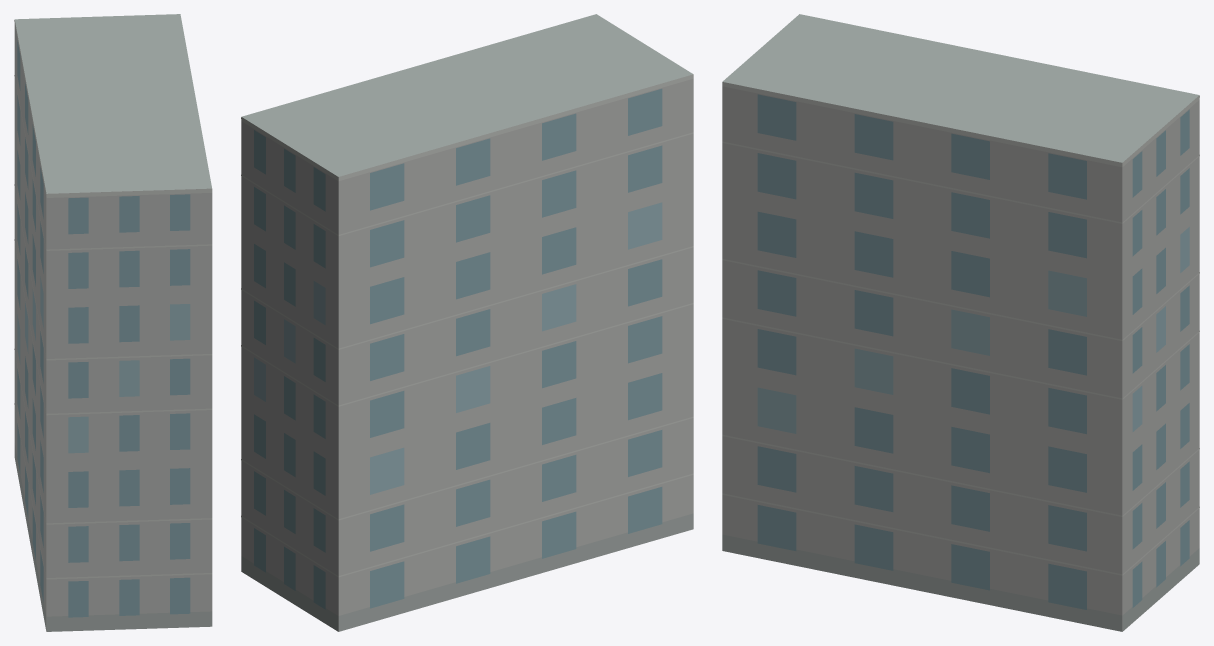
File: survey-upis-32925032.glb
3 views of the same model, side by side, from view 1: azimuth 30°, elevation 25°; view 2: azimuth 150°, elevation 25°; view 3: azimuth 270°, elevation 25° (orthographic). The views are drawn at different scales.
Visible parts, largest first — view 1: survey-upis-32925032.tmp; view 2: survey-upis-32925032.tmp; view 3: survey-upis-32925032.tmp.
Part boxes in pixels (x1=…): survey-upis-32925032.tmp: x1=14, y1=14, x2=212, y2=631; survey-upis-32925032.tmp: x1=241, y1=14, x2=693, y2=631; survey-upis-32925032.tmp: x1=722, y1=14, x2=1199, y2=631.
Bounding box in the file's own units: 17.34 × 25.45 × 23.5.
